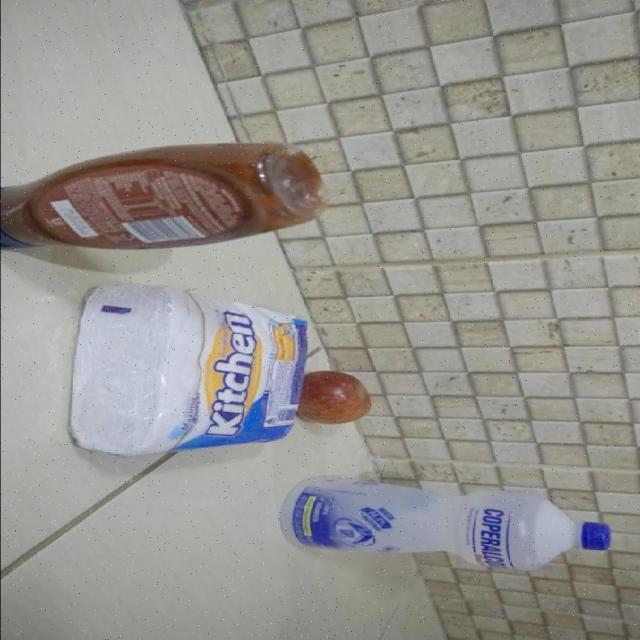AlcoholBottle: (279, 476, 611, 572)
Apple: (293, 371, 372, 427)
Ketchup: (0, 140, 327, 254)
Napkin: (68, 283, 309, 457)
